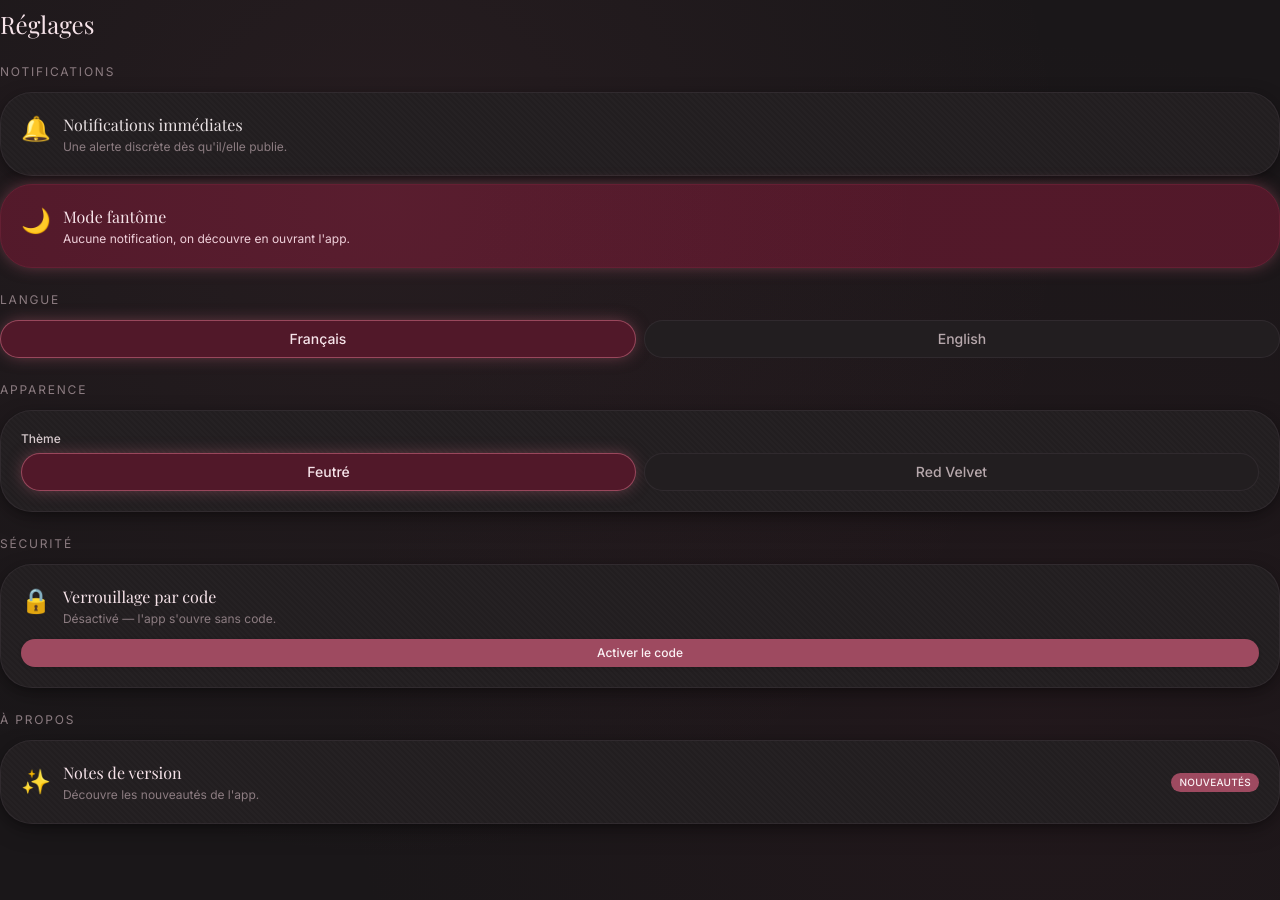
Scenario: SettingsScreen — Notes de version (#90) › pastille « Nouveautés » visible, puis ouverture des notes + pastille disparue
Expected: the text "Nouveautés" is shown, [1171, 772, 1259, 792]
Click the button "Notes de version".
click(122, 772)  # box [21, 761, 1259, 803]
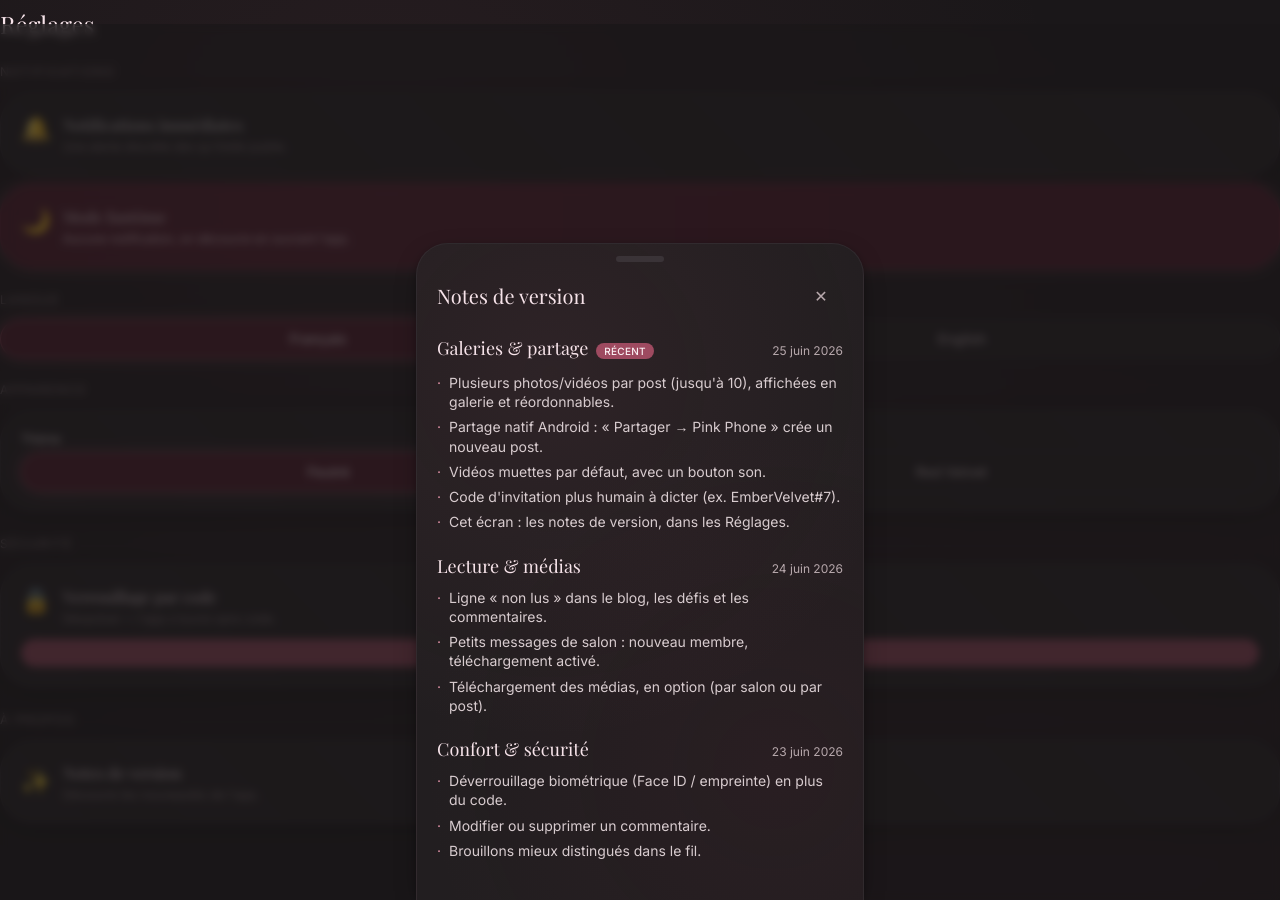
Result: the heading "Galeries & partage" is shown at [437, 336, 588, 360]
